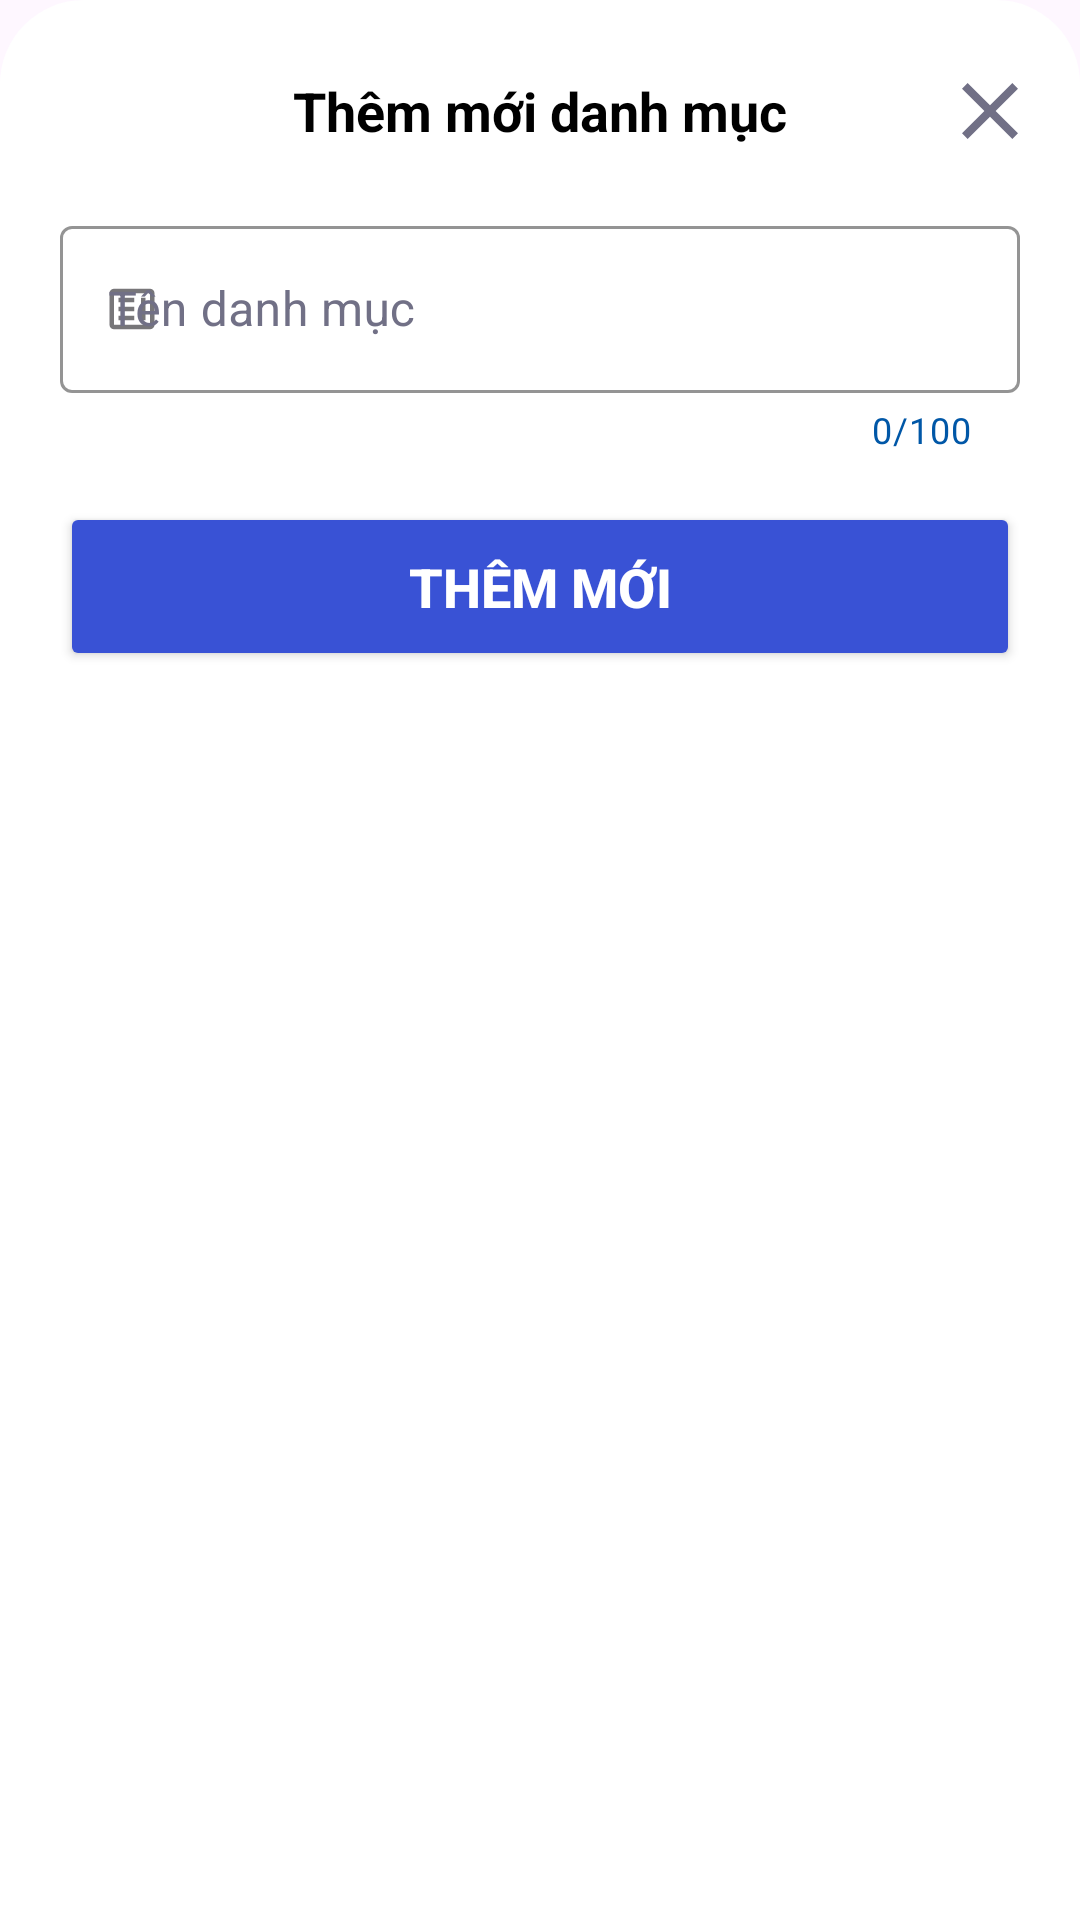

Locate icon controls on the screen. Image size 1080*1920, boxes as rect(x1, y1, x2, y2).
close: rect(962, 83, 1018, 139)
